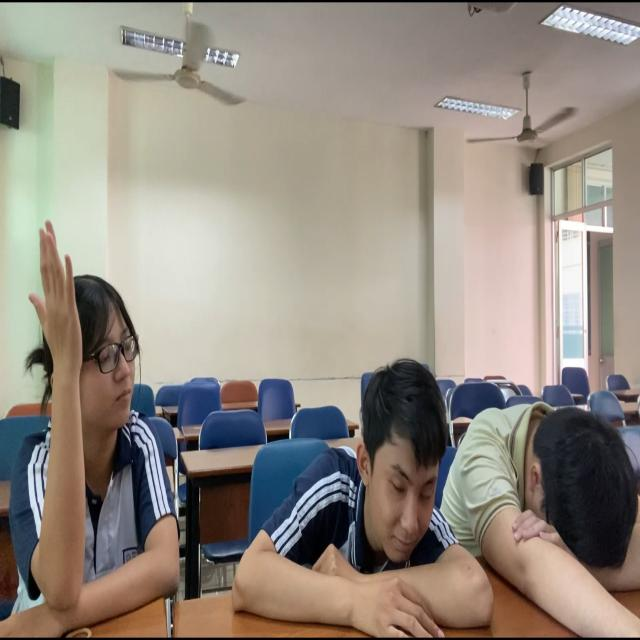raise_hand: (1, 214, 174, 640)
sleep: (227, 356, 480, 640), (458, 379, 640, 619)
